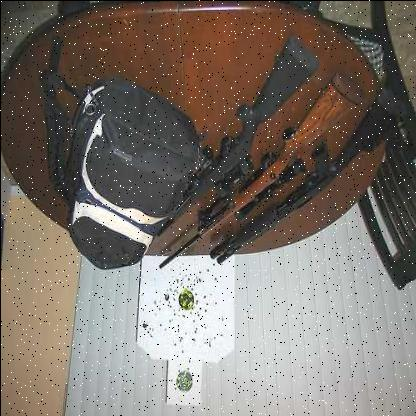rifle: (139, 75, 364, 277), (197, 85, 416, 278), (149, 22, 319, 243)
